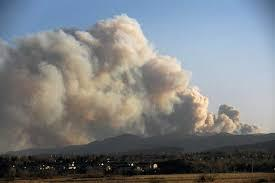yanwu: (0, 12, 264, 145)
